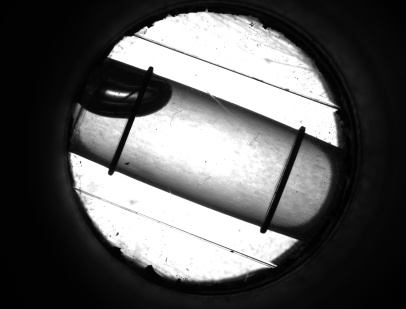line: (261, 144, 304, 214), (110, 123, 136, 156)
